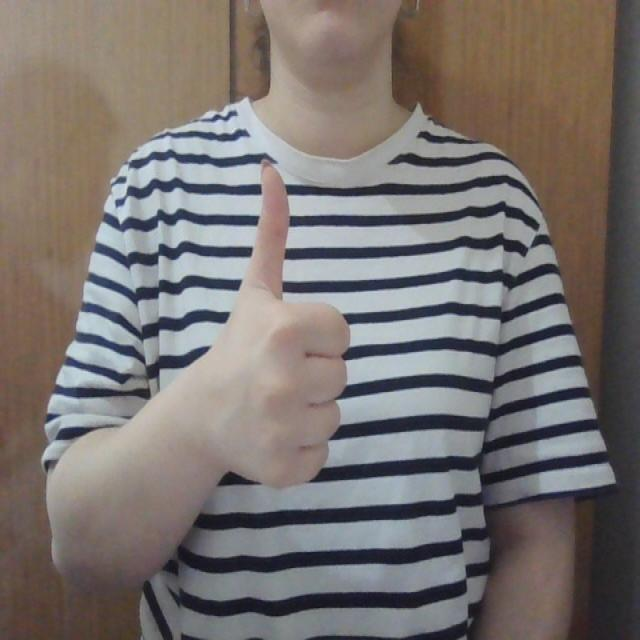Tamam: (198, 150, 363, 496)
